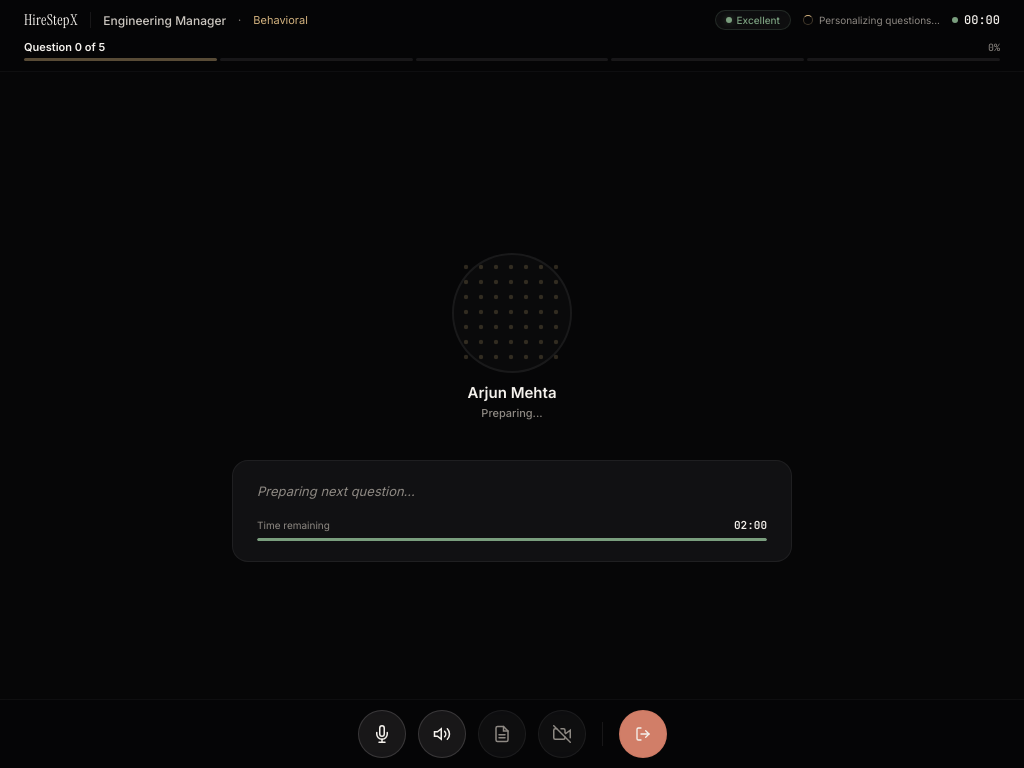
Interview › shows confirmation modal when End is clicked
This screenshot has width=1024, height=768.
Step 1. Click the button named "End interview" → (642, 734), box [618,710,666,758]
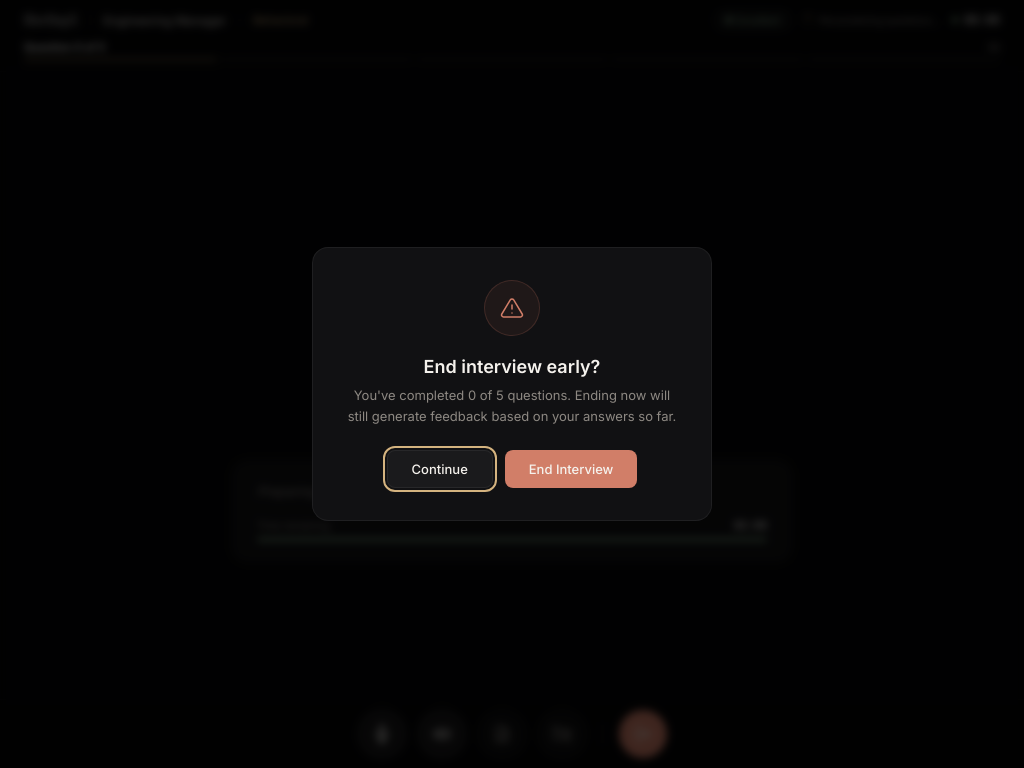
Expected: the heading "End interview early?" is shown, [424,356,600,377]
